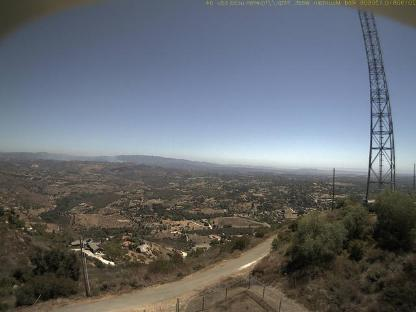smoke: (90, 152, 126, 164)
